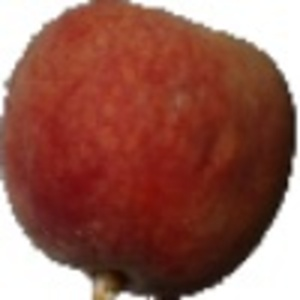pêssego: (1, 1, 299, 300)
